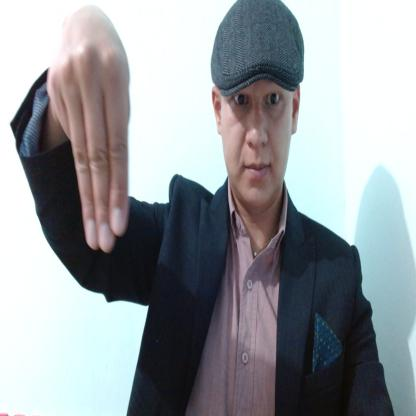M: (48, 8, 132, 253)
